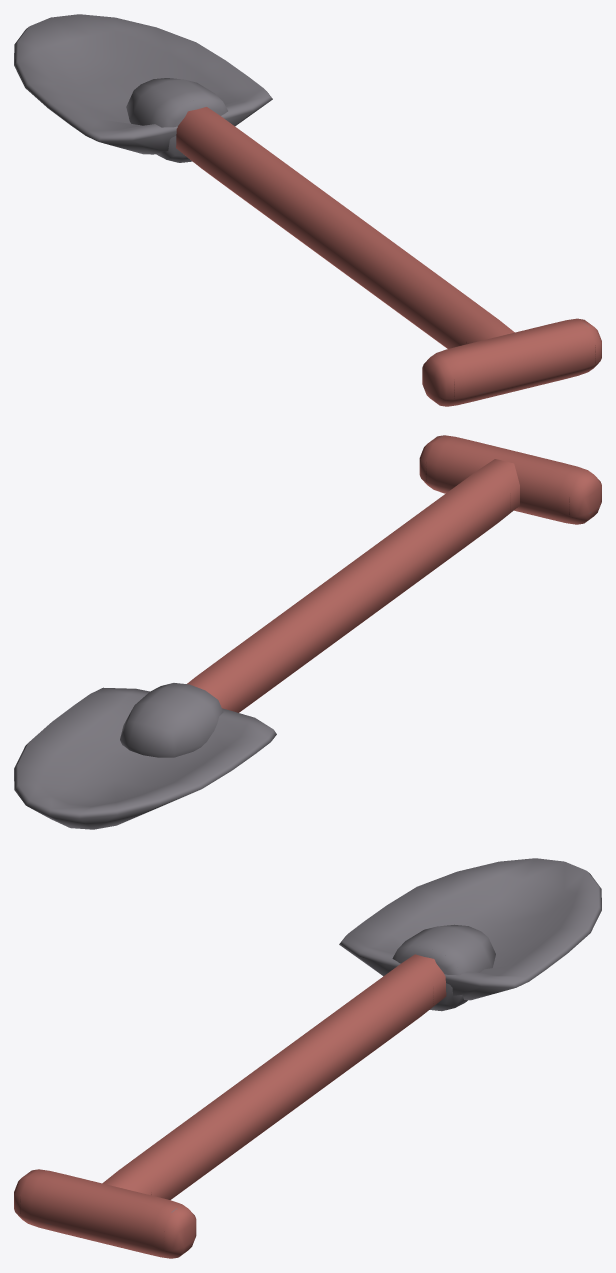
The model's file is shovel.glb.
The picture shows the model from 3 angles, top to bottom: view 1: azimuth 30°, elevation 25°; view 2: azimuth 150°, elevation 25°; view 3: azimuth 330°, elevation 25°; orthographic projection.
Visible parts, largest first — view 1: shovel; view 2: shovel; view 3: shovel.
Part boxes in pixels (bbox=[...]): shovel: bbox=[14, 14, 601, 406]; shovel: bbox=[14, 435, 601, 829]; shovel: bbox=[14, 858, 601, 1258].
Size of the model in its own units: 4.11 by 1.37 by 18.47.
Materials: 1 (1 with a texture image).
